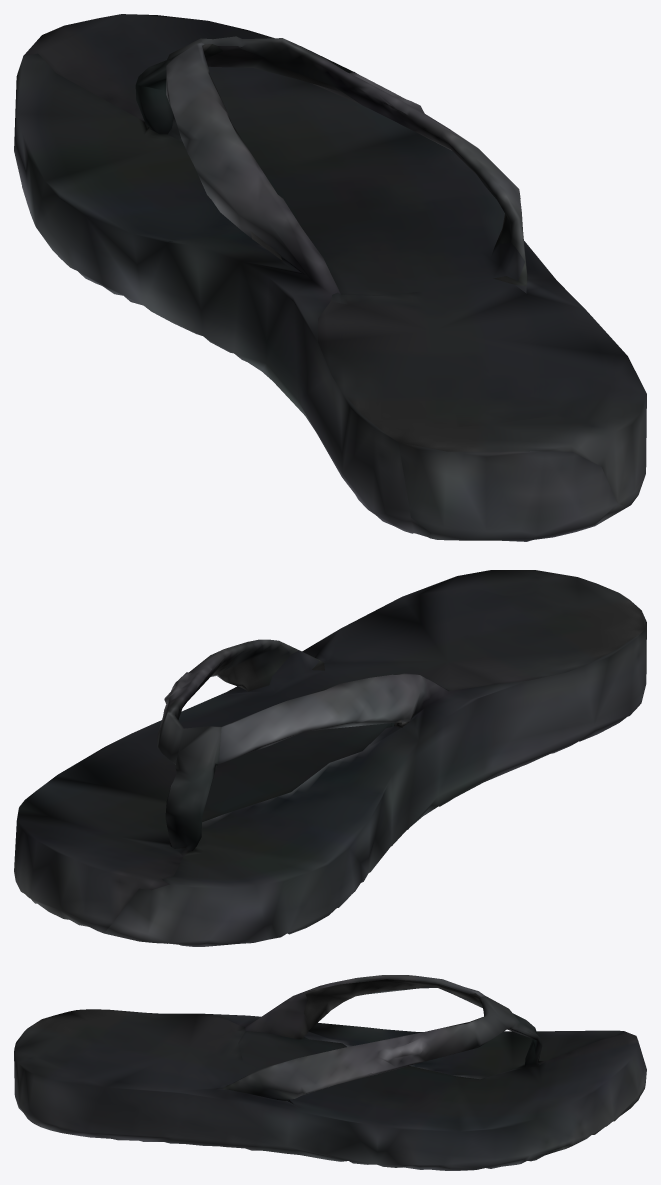
Rendered from Reef_Star_Cushion_Flipflops_Size_8_Black-medium.glb.
The picture shows the model from 3 angles, top to bottom: view 1: azimuth 30°, elevation 25°; view 2: azimuth 150°, elevation 25°; view 3: azimuth 270°, elevation 25°; orthographic projection. The views are drawn at different scales.
Parts seen in each view (by area): view 1: Reef_Star_Cushion_Flipflops_Size_8_Black; view 2: Reef_Star_Cushion_Flipflops_Size_8_Black; view 3: Reef_Star_Cushion_Flipflops_Size_8_Black.
Part boxes in pixels (<box>): Reef_Star_Cushion_Flipflops_Size_8_Black: <box>14,14,646,541</box>; Reef_Star_Cushion_Flipflops_Size_8_Black: <box>14,570,646,946</box>; Reef_Star_Cushion_Flipflops_Size_8_Black: <box>14,975,646,1170</box>.
Bounding box in the file's own units: 0.1049 × 0.0552 × 0.2582.
Materials: 1 (1 with a texture image).
